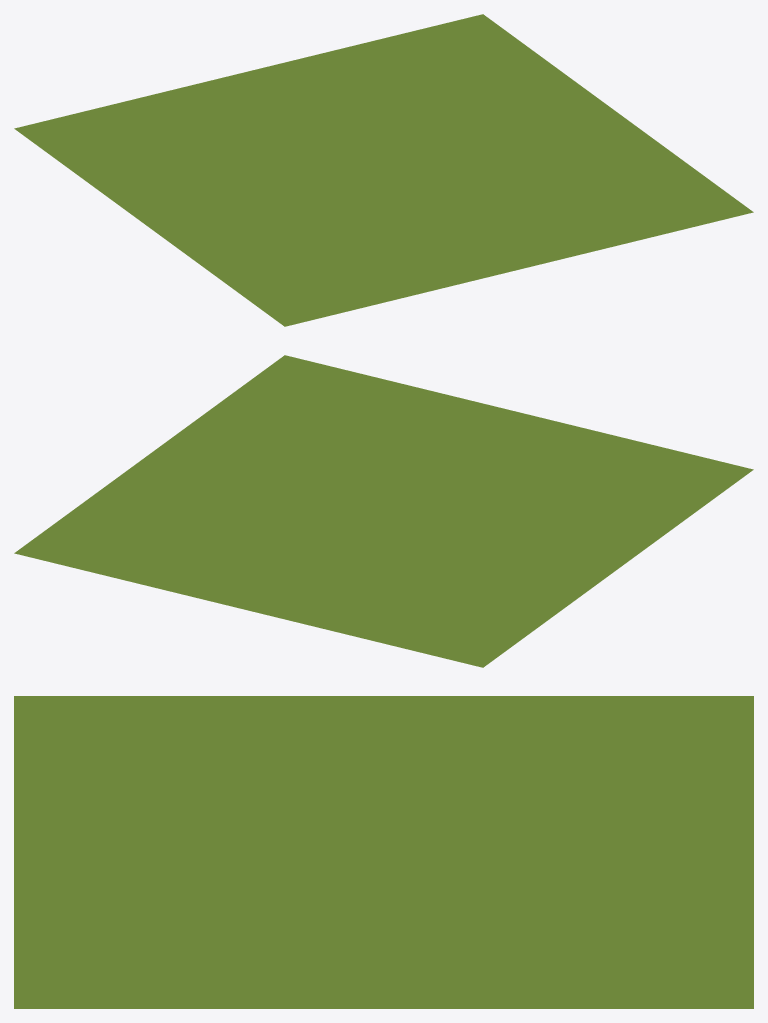
Rendered from Terrain_01.glb.
3 views of the same model, one above another, from view 1: azimuth 30°, elevation 25°; view 2: azimuth 150°, elevation 25°; view 3: azimuth 270°, elevation 25° (orthographic). The views are drawn at different scales.
Parts seen in each view (by area): view 1: Terrain_01; view 2: Terrain_01; view 3: Terrain_01.
Boxes of the visible parts, x1=… form: Terrain_01: x1=14, y1=14, x2=753, y2=326; Terrain_01: x1=14, y1=355, x2=753, y2=667; Terrain_01: x1=14, y1=696, x2=753, y2=1008.
Bounding box in the file's own units: 128 × 4.17e-05 × 128.
Materials: 1 (1 with a texture image).
